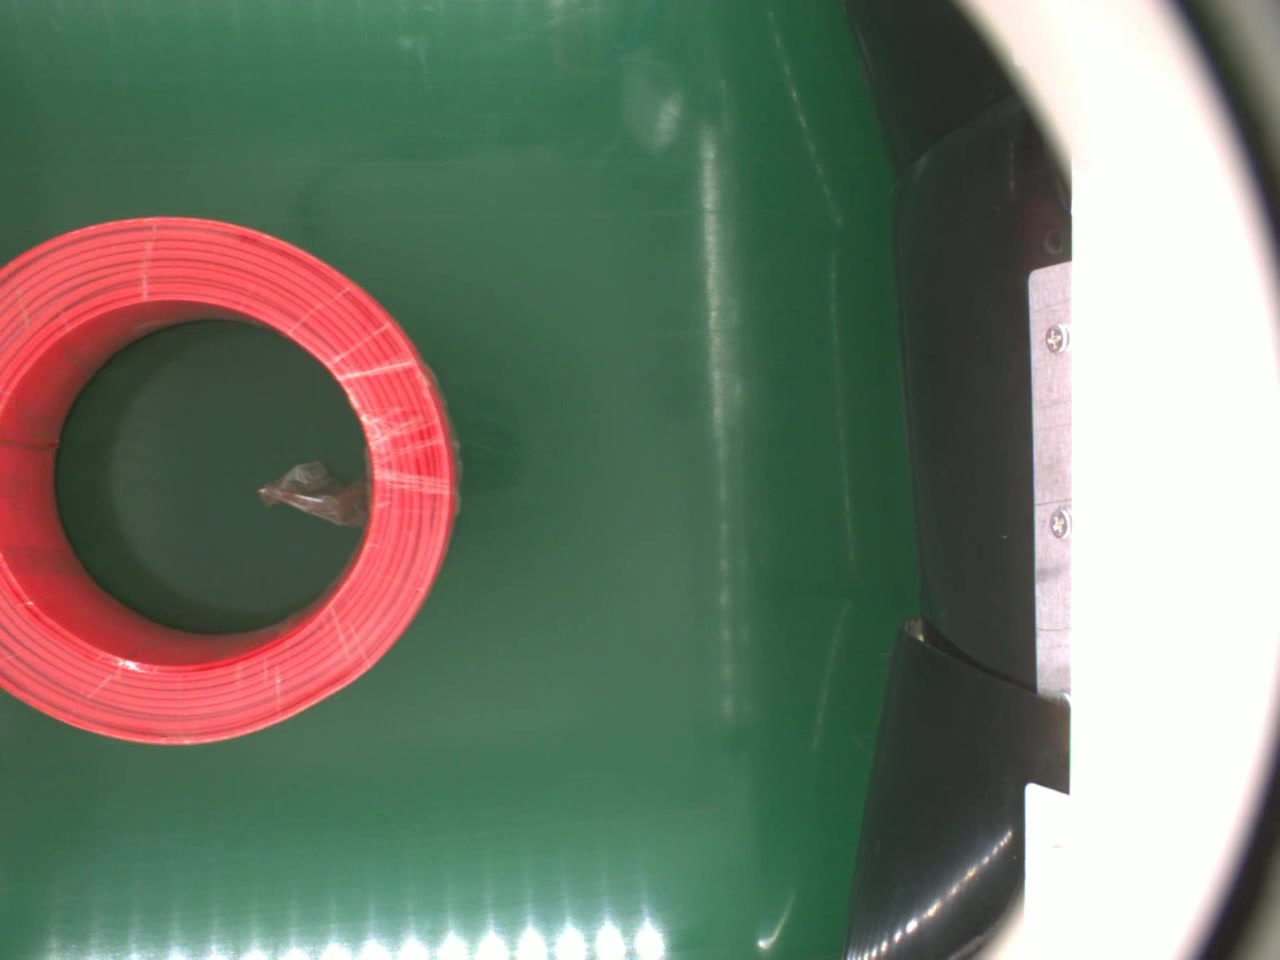red: (0, 213, 467, 749)
